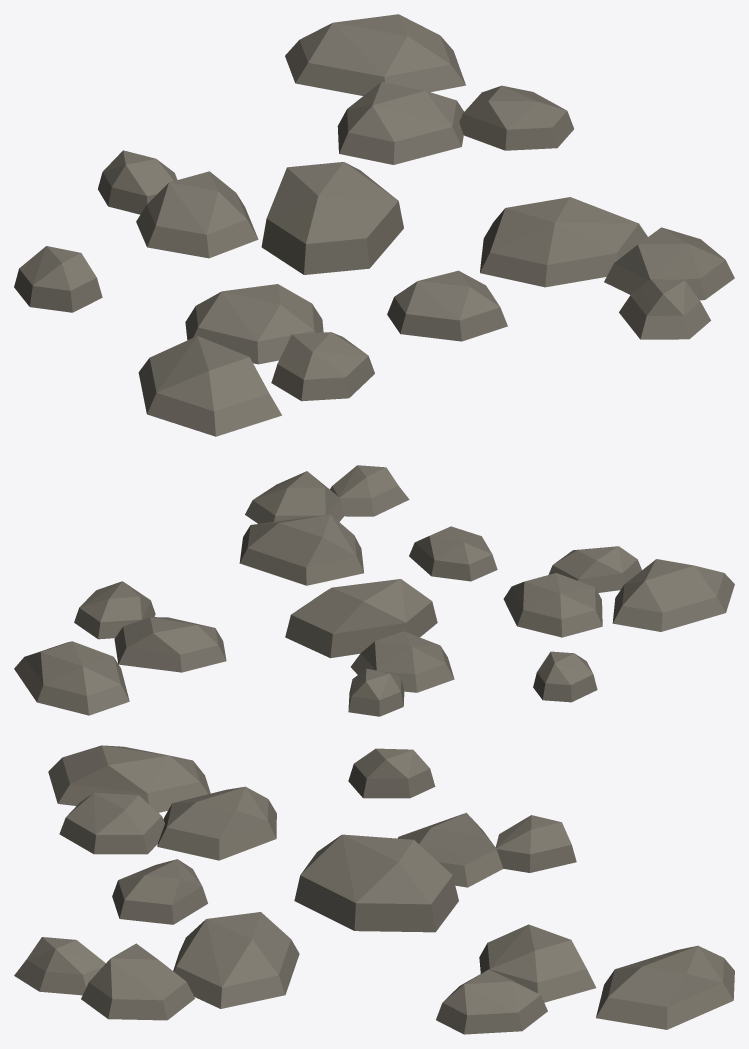
File: rock__pebbles3_caves_light.glb
The picture shows the model from 3 angles, top to bottom: view 1: azimuth 30°, elevation 25°; view 2: azimuth 150°, elevation 25°; view 3: azimuth 270°, elevation 25°; orthographic projection. The views are drawn at different scales.
Parts seen in each view (by area): view 1: pebbles3.caves.light; view 2: pebbles3.caves.light; view 3: pebbles3.caves.light.
Part boxes in pixels (<box>): pebbles3.caves.light: <box>14,14,734,436</box>; pebbles3.caves.light: <box>14,465,734,716</box>; pebbles3.caves.light: <box>14,745,734,1034</box>.
Size of the model in its own units: 2.31 by 0.2169 by 2.56.
Materials: 1 (1 with a texture image).
